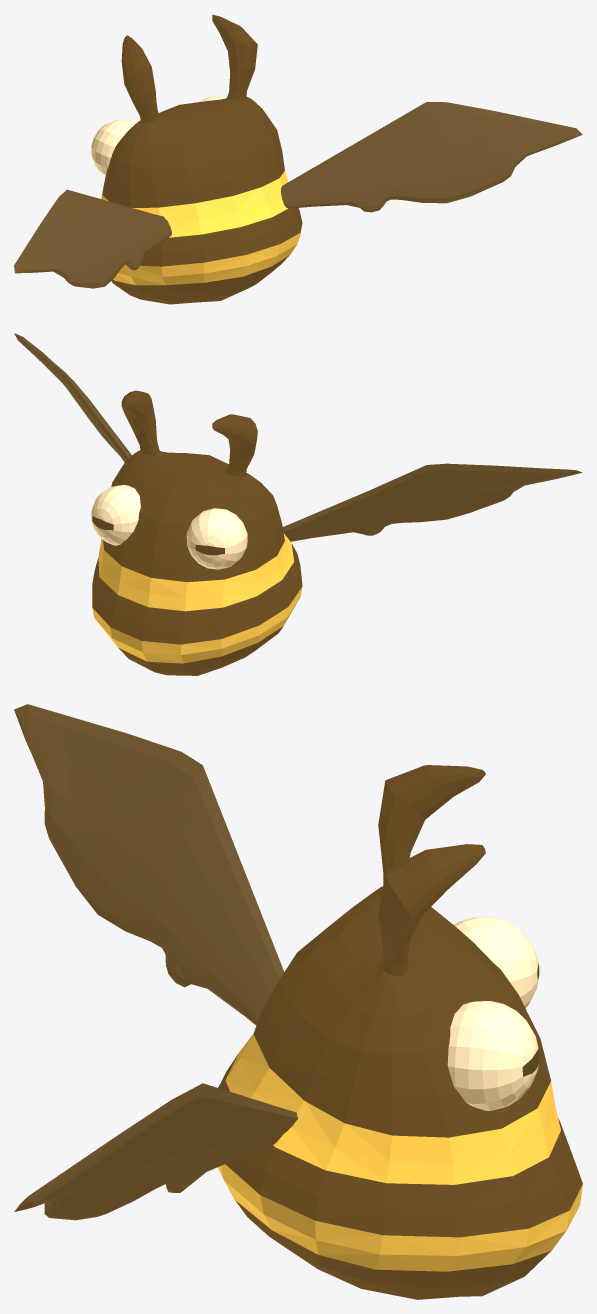
File: beetle.glb
3 views of the same model, one above another, from view 1: azimuth 30°, elevation 25°; view 2: azimuth 150°, elevation 25°; view 3: azimuth 270°, elevation 25° (orthographic). The views are drawn at different scales.
Parts seen in each view (by area): view 1: beetle_body; view 2: beetle_body; view 3: beetle_body.
Boxes of the visible parts, x1=… form: beetle_body: x1=14, y1=14, x2=582, y2=304; beetle_body: x1=14, y1=333, x2=582, y2=675; beetle_body: x1=14, y1=704, x2=582, y2=1299.
Bounding box in the file's own units: 1.83 × 0.8 × 0.8734.
Materials: 1 (1 with a texture image).
